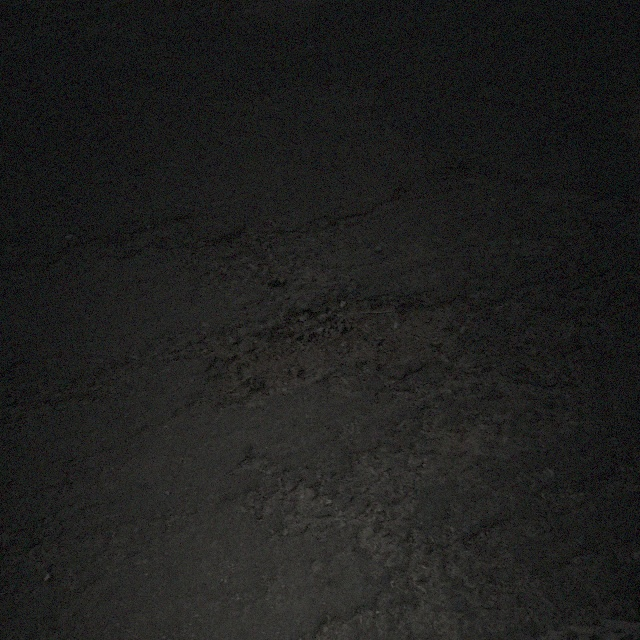pothole: (208, 289, 467, 412), (210, 215, 335, 288)
